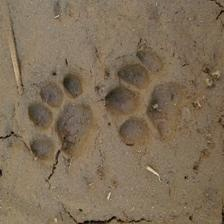cat: (101, 48, 198, 156), (26, 72, 98, 164)
